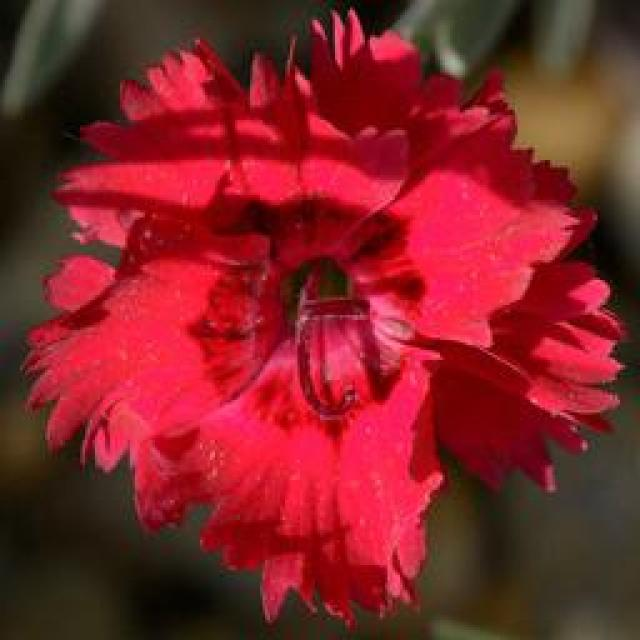carnation: (28, 12, 638, 640)
